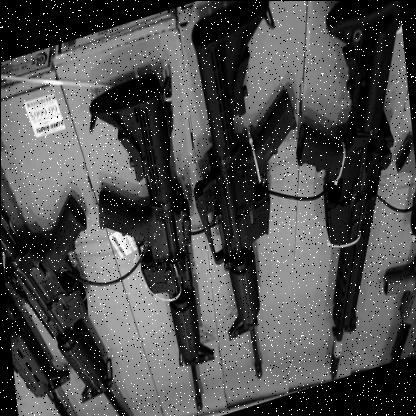rifle: (175, 0, 316, 395), (96, 59, 221, 416), (288, 0, 394, 382)
